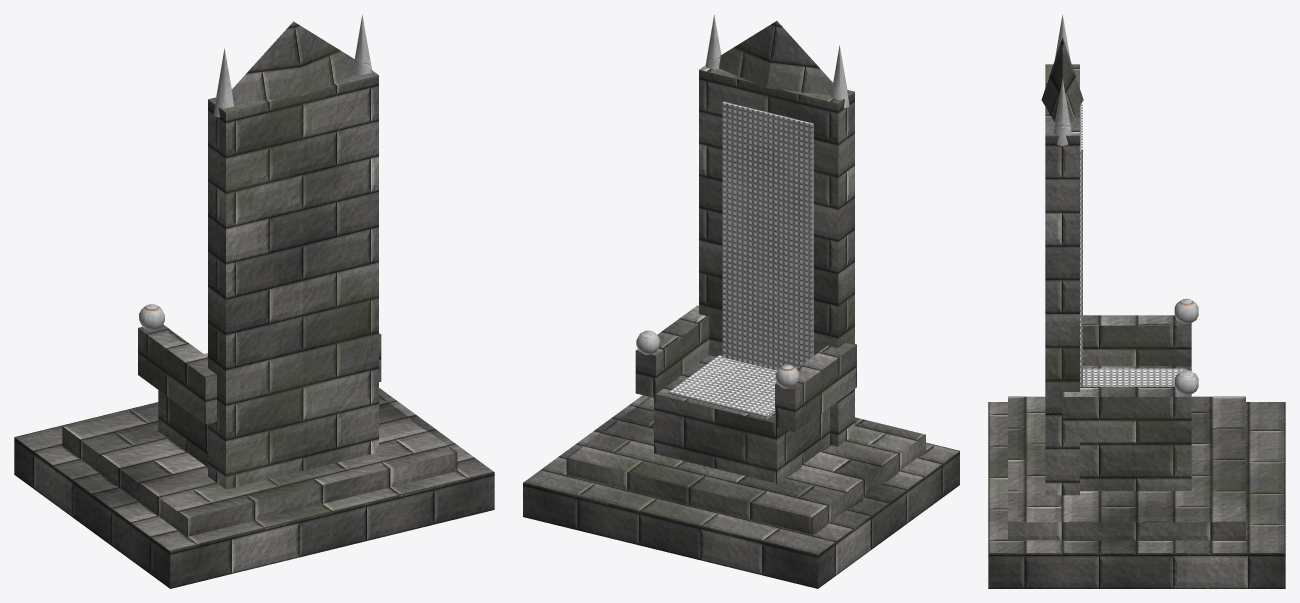
The model's file is throne.obj.
3 views of the same model, side by side, from view 1: azimuth 30°, elevation 25°; view 2: azimuth 150°, elevation 25°; view 3: azimuth 270°, elevation 25° (orthographic). The views are drawn at different scales.
Size of the model in its own units: 3.6 by 5.3 by 3.
3 materials, 3 textured.
